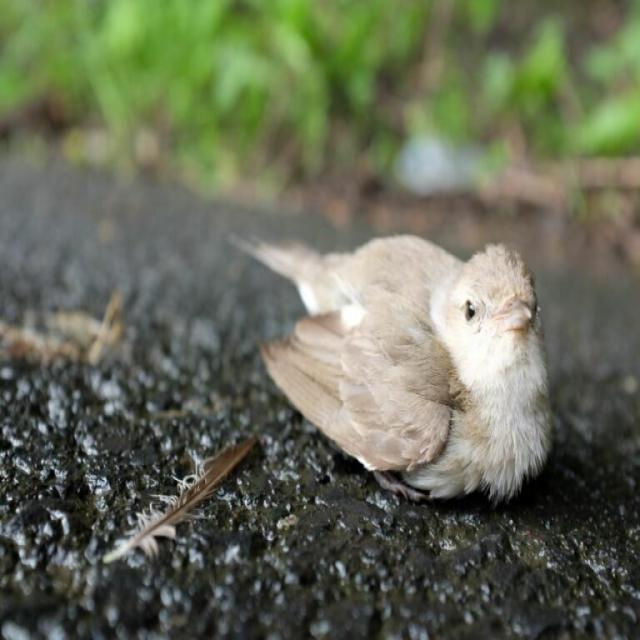bird: (181, 128, 640, 596)
